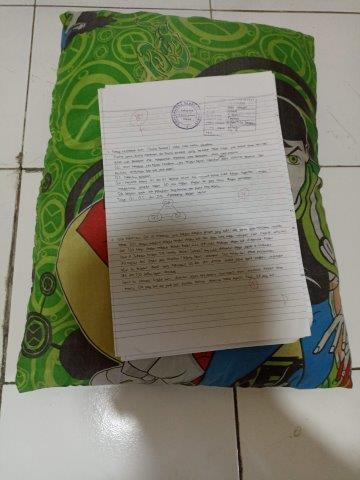kertas: (98, 71, 313, 362)
